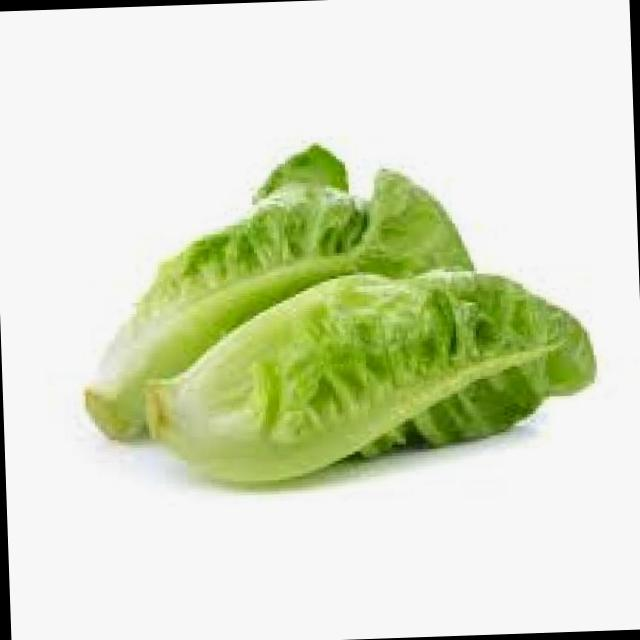Lettuce-Ready-to-Harvest: (87, 145, 471, 437), (172, 271, 593, 482)
